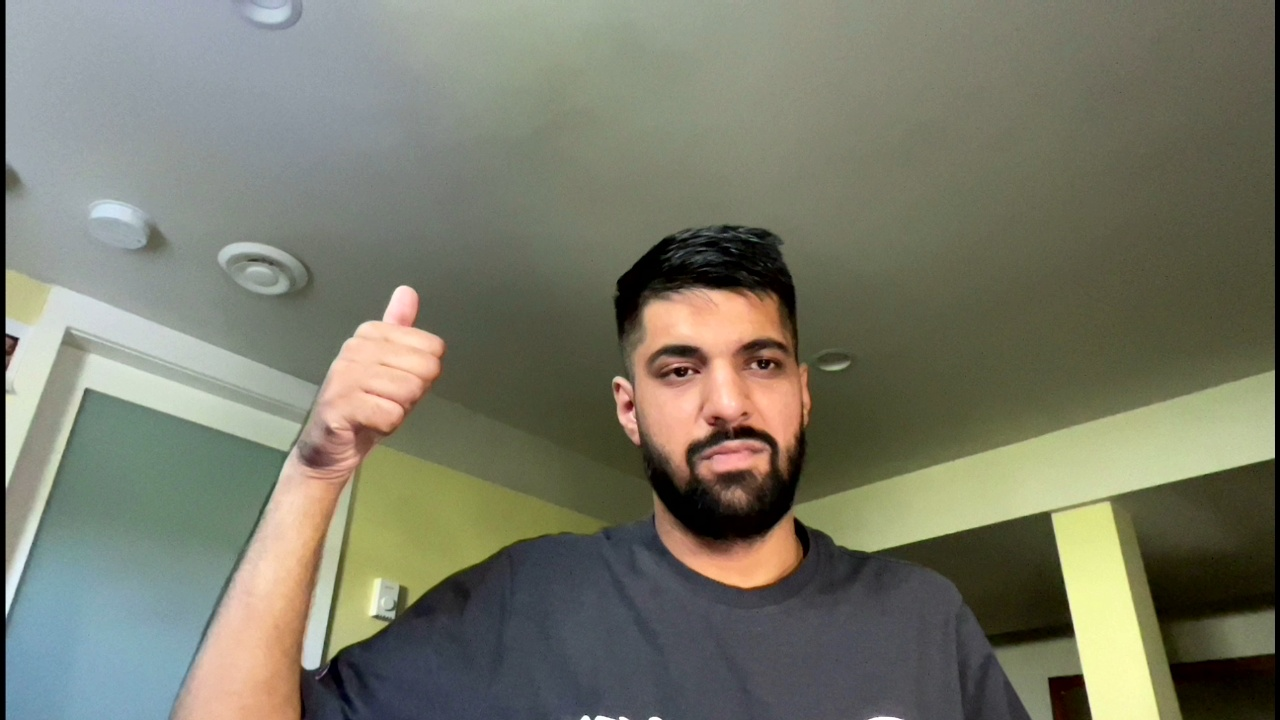Yes: (309, 283, 454, 474)
